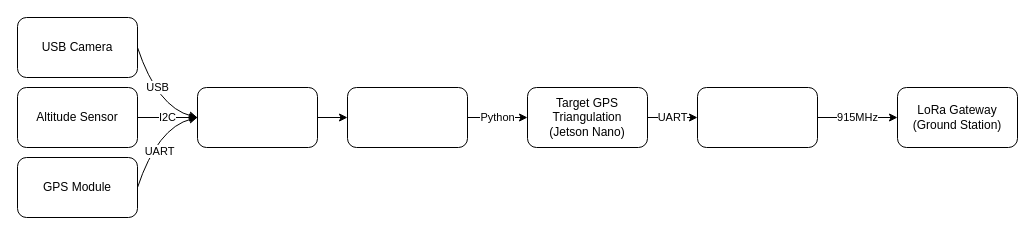
The diagram is 1035 pixels wide and 235 high, and some of its shapes have lost their labels. The shapes that lost their labels are listed below. From the top down, each one's centre as x and y in pixels, then its label:
pixel 257 117: Jetson Nano
pixel 407 117: OpenCV Target Detection (Jetson Nano)
pixel 757 117: LoRa Gateway (UAV)
